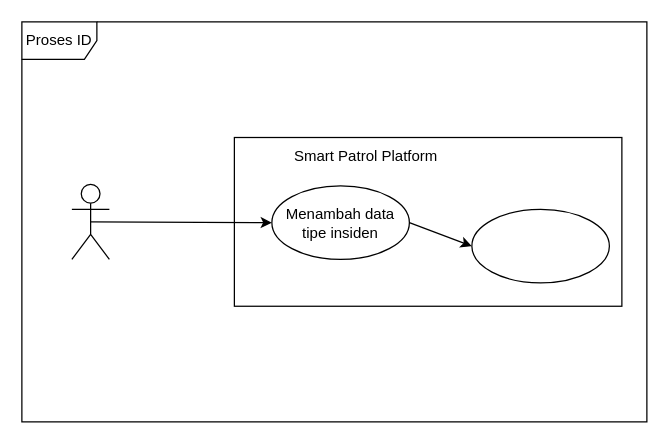
The diagram is 669 pixels wide and 444 high, and some of its shapes have lost their labels. The shapes that lost their labels are listed below. From the top down, each one's centre as x and y in pixels, then its label:
At pixel 90 221: "Administrator".
At pixel 540 245: "lihat data tipe insiden".
